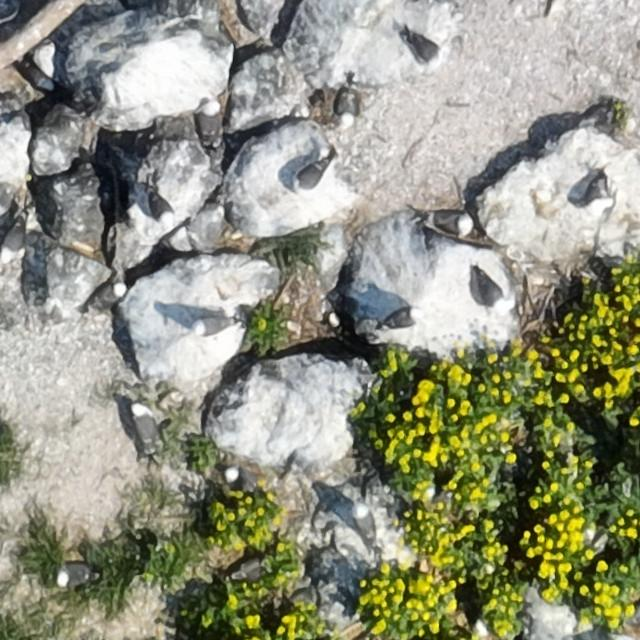umineko: (131, 399, 163, 461), (416, 208, 474, 240), (292, 153, 337, 194), (481, 268, 516, 318), (351, 501, 382, 554), (2, 208, 30, 266), (149, 188, 180, 232), (199, 96, 223, 152), (404, 32, 442, 66), (586, 175, 614, 220), (56, 566, 90, 587), (226, 469, 255, 492), (386, 309, 416, 329), (194, 316, 227, 334), (336, 90, 354, 122), (97, 284, 123, 306)
